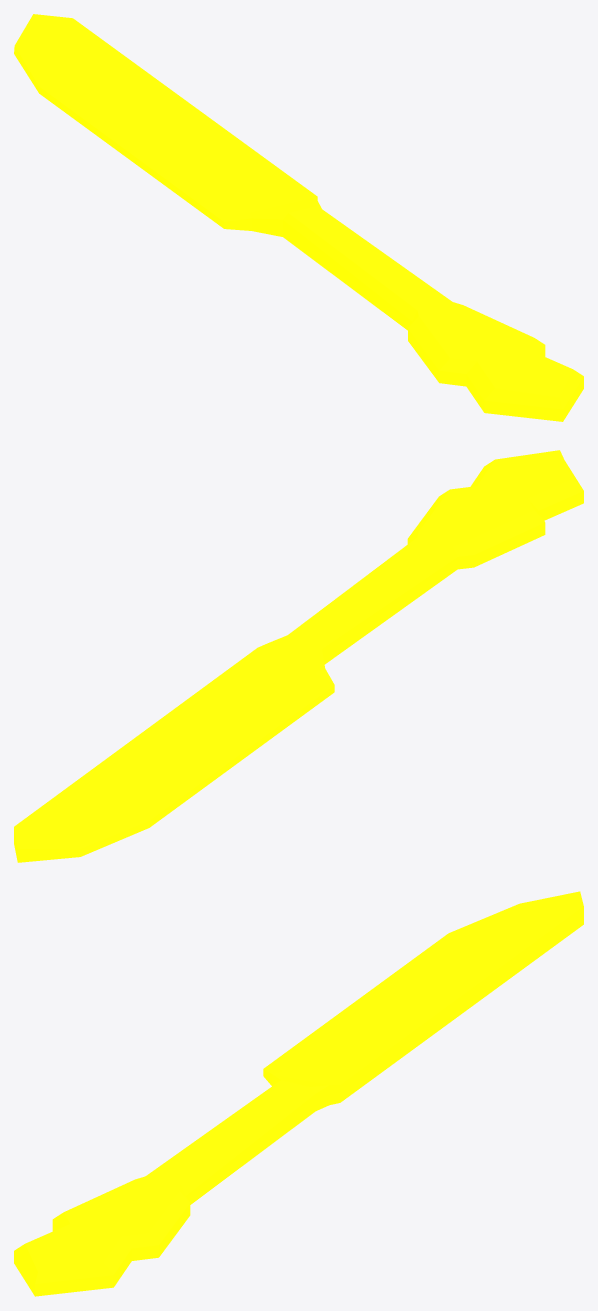
The model's file is cutlery-knife-christmas.glb.
3 renders of one model, top to bottom at view 1: azimuth 30°, elevation 25°; view 2: azimuth 150°, elevation 25°; view 3: azimuth 330°, elevation 25°, orthographic.
Visible parts, largest first — view 1: cutlery_knife_christmas; view 2: cutlery_knife_christmas; view 3: cutlery_knife_christmas.
Part boxes in pixels (bbox=[...]): cutlery_knife_christmas: bbox=[14, 14, 583, 421]; cutlery_knife_christmas: bbox=[14, 450, 583, 862]; cutlery_knife_christmas: bbox=[14, 891, 583, 1296].
Bounding box in the file's own units: 0.035 × 0.00707 × 0.2999.
Materials: 1 (1 with a texture image).
